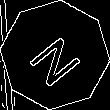N_NE: (23, 24, 87, 86)
